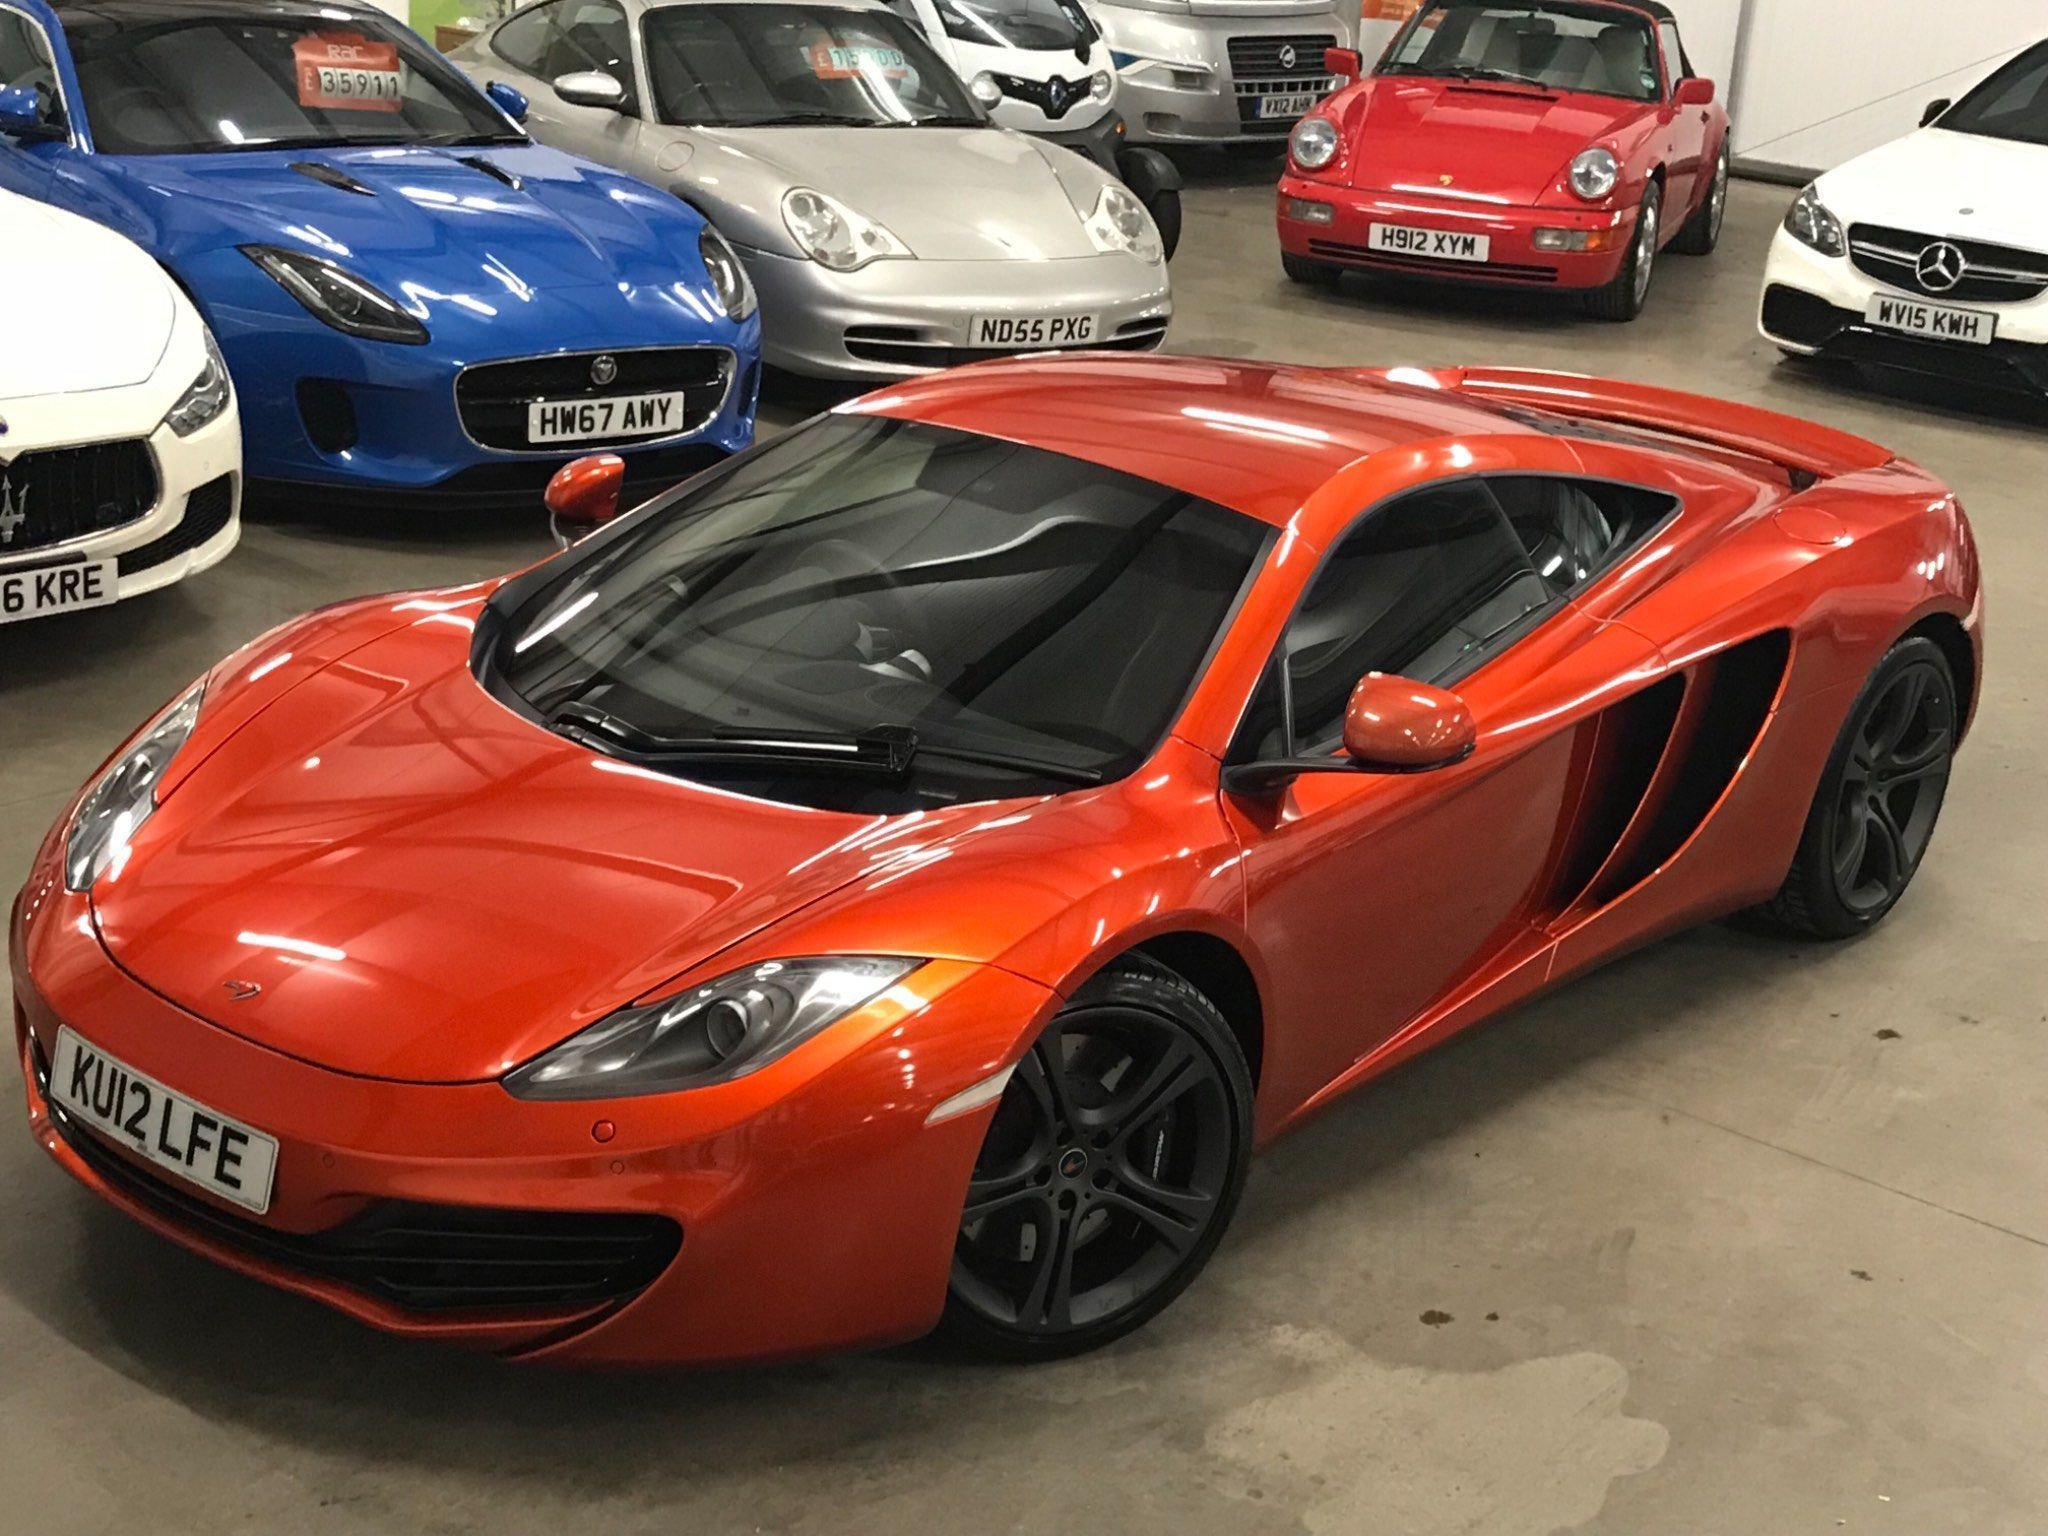car: (21, 365, 1980, 1412), (1276, 13, 1735, 298), (1758, 24, 2046, 374), (260, 503, 772, 629)
